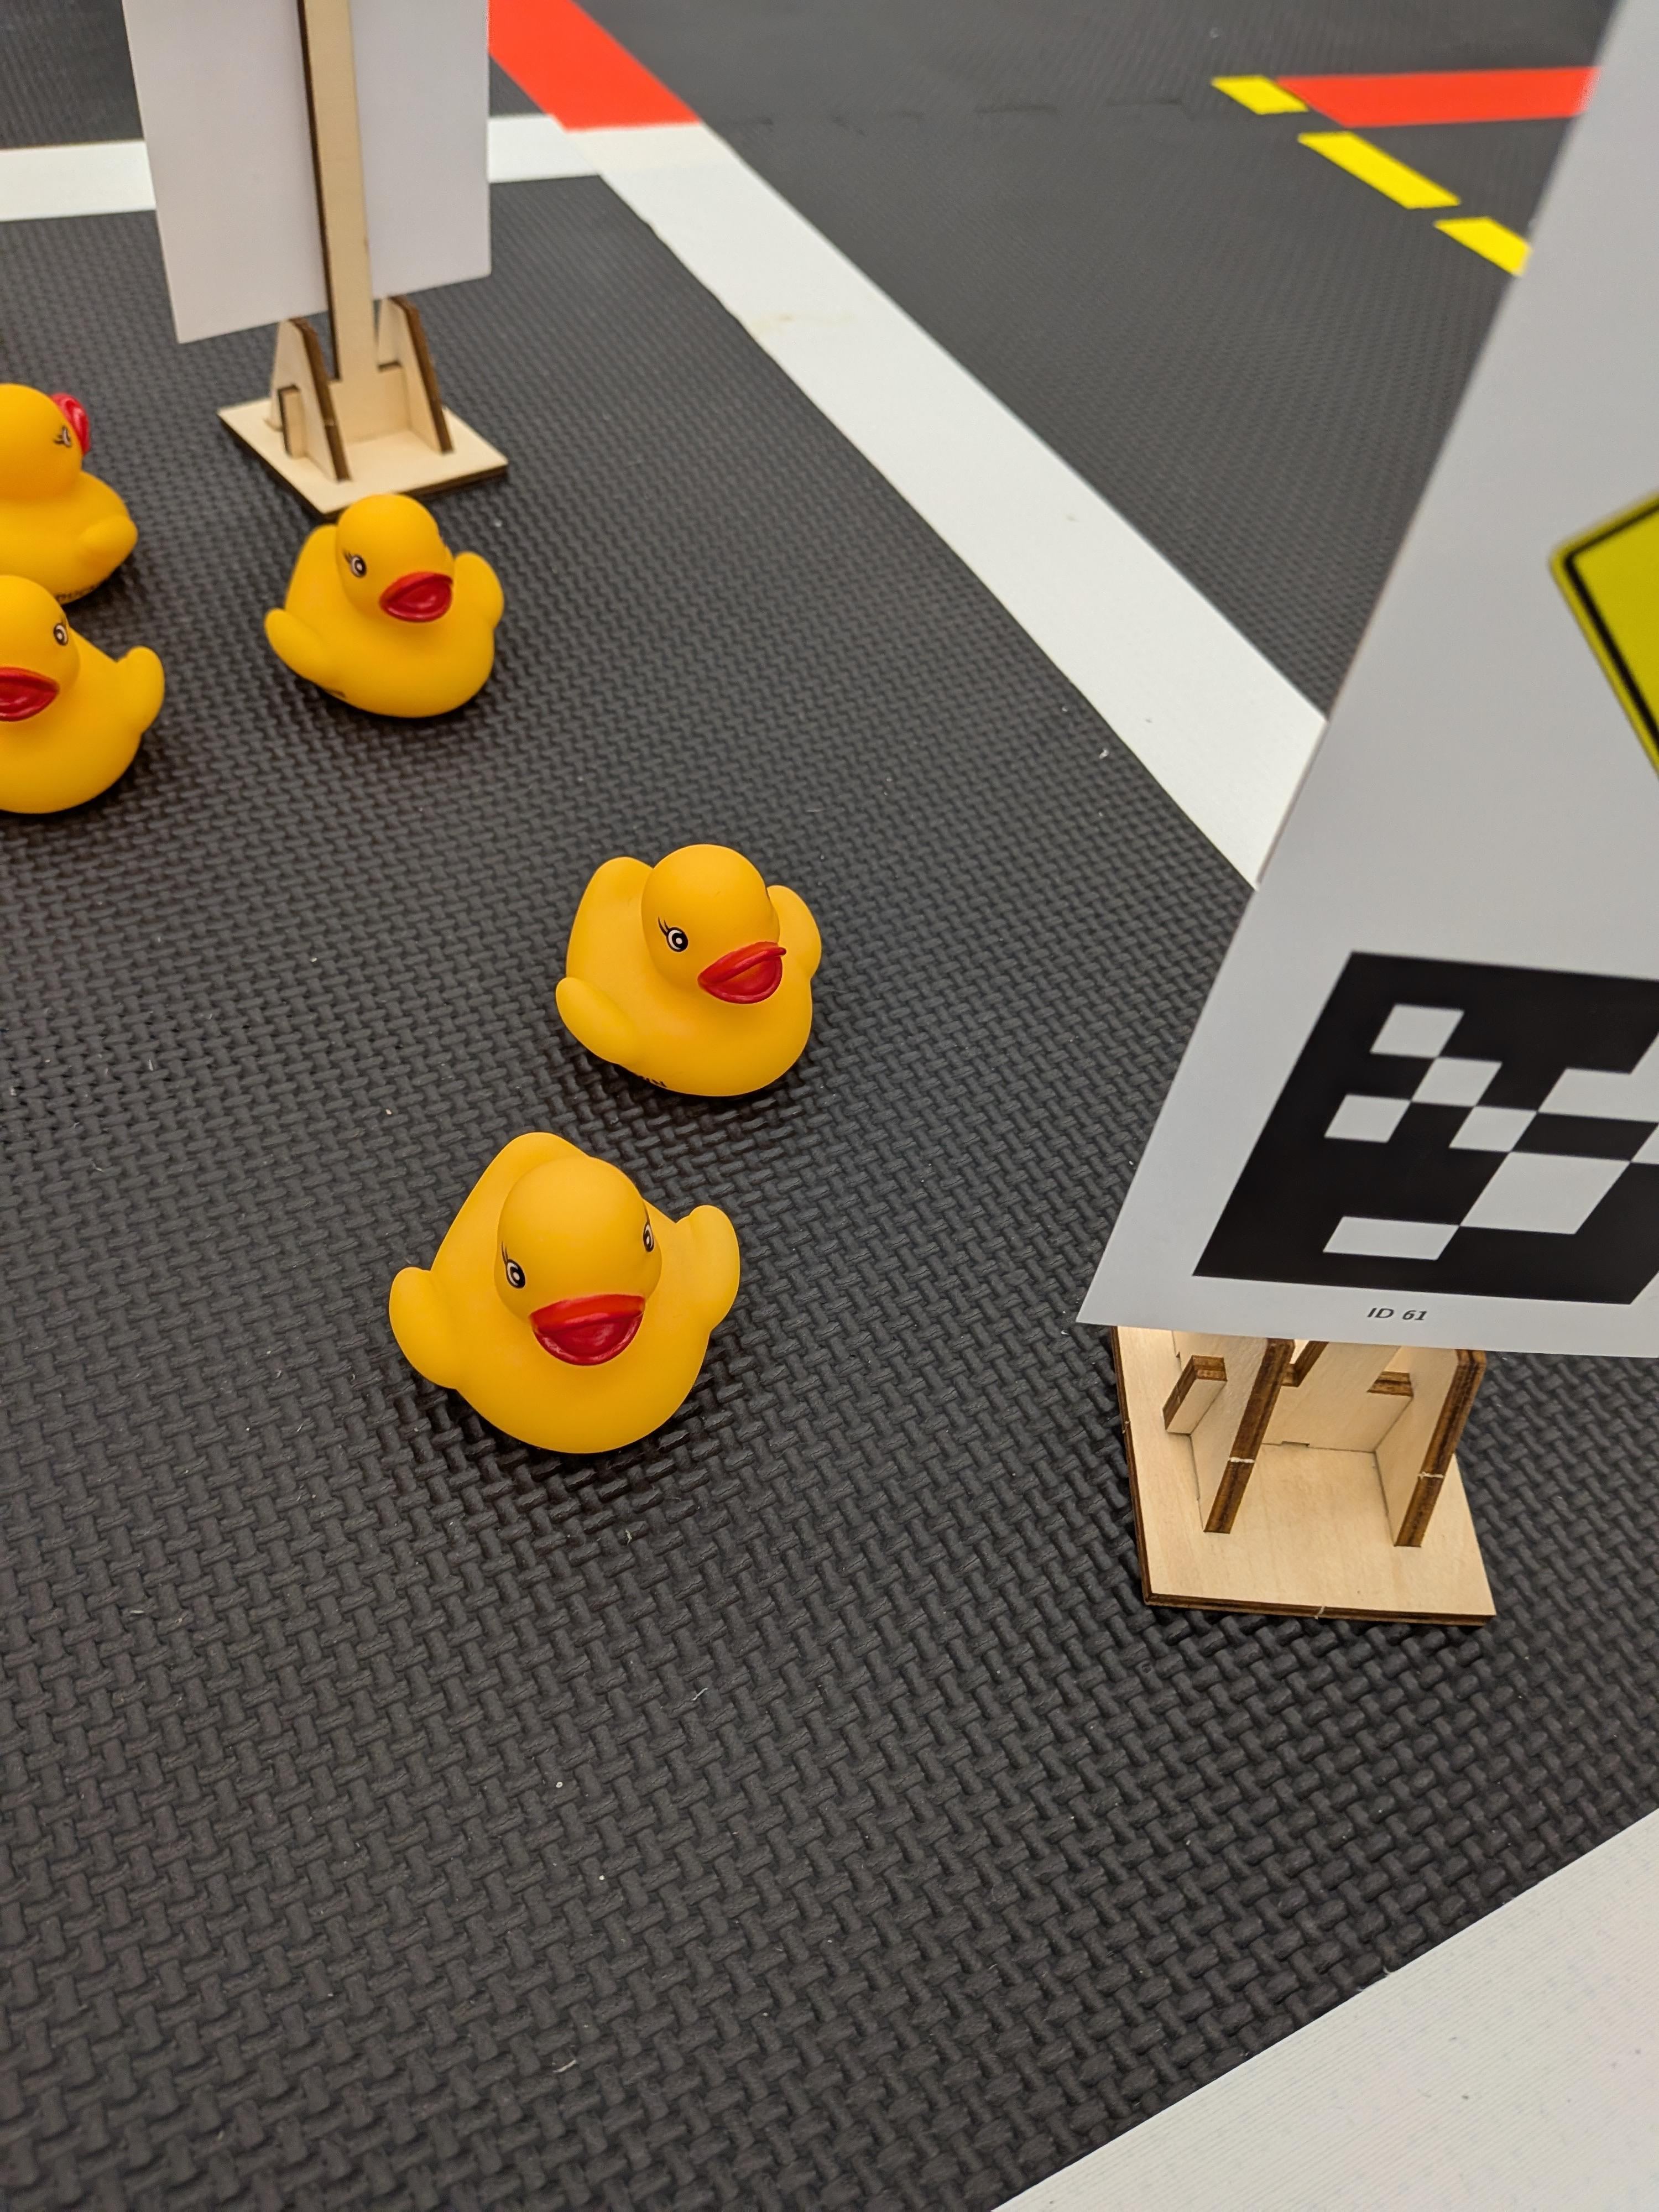peasant: (385, 1120, 760, 1484), (556, 838, 833, 1109), (270, 489, 505, 735), (0, 566, 160, 855), (0, 368, 145, 639)
stopbar: (481, 0, 725, 122), (1281, 64, 1629, 127)
whiteline: (594, 118, 1330, 899), (965, 1799, 1659, 2212), (0, 111, 720, 232)
yellowline: (1216, 70, 1527, 282)
